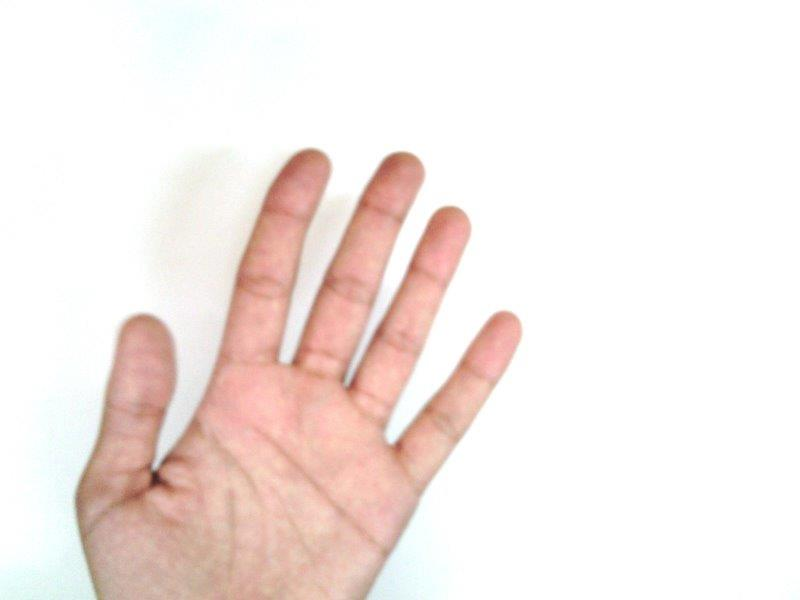hand: (74, 150, 523, 600)
